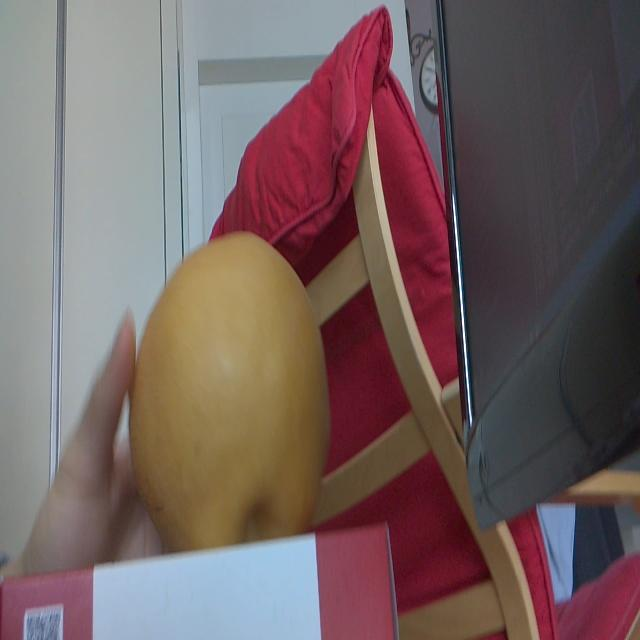pear: (128, 231, 328, 533)
